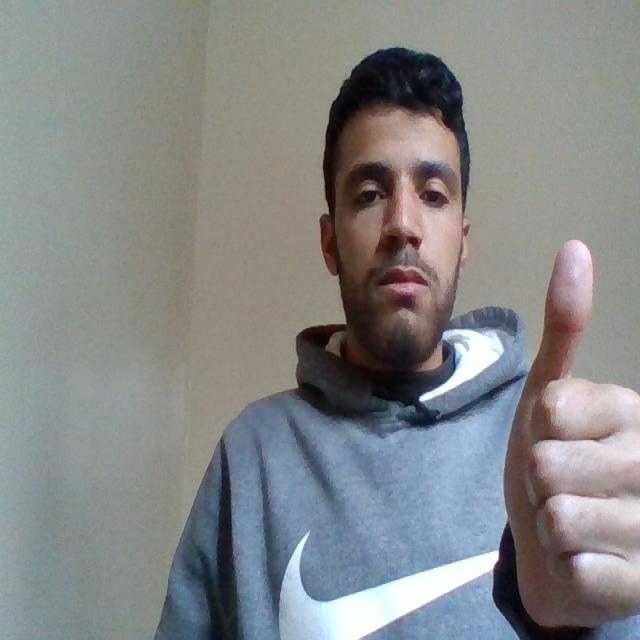Yes: (495, 231, 639, 636)
